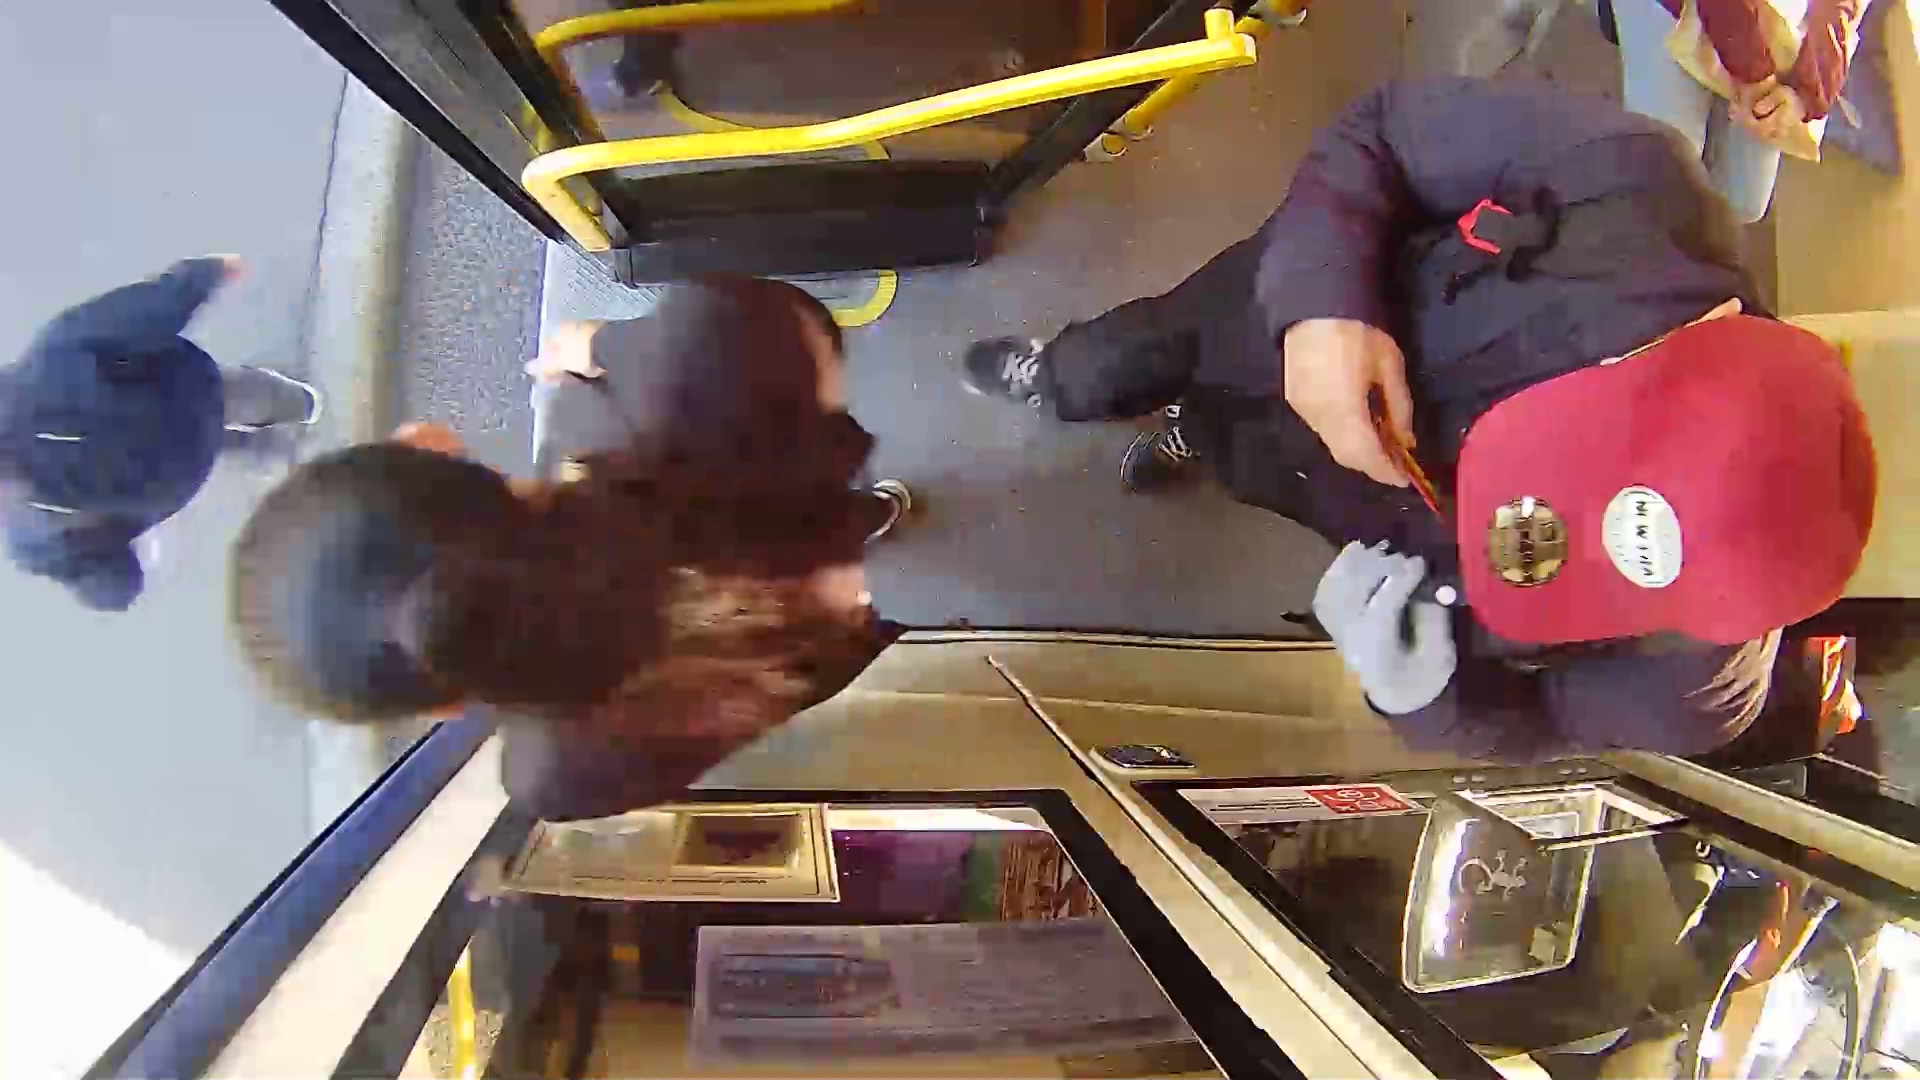person: (1082, 76, 1892, 772), (223, 249, 1018, 800)
